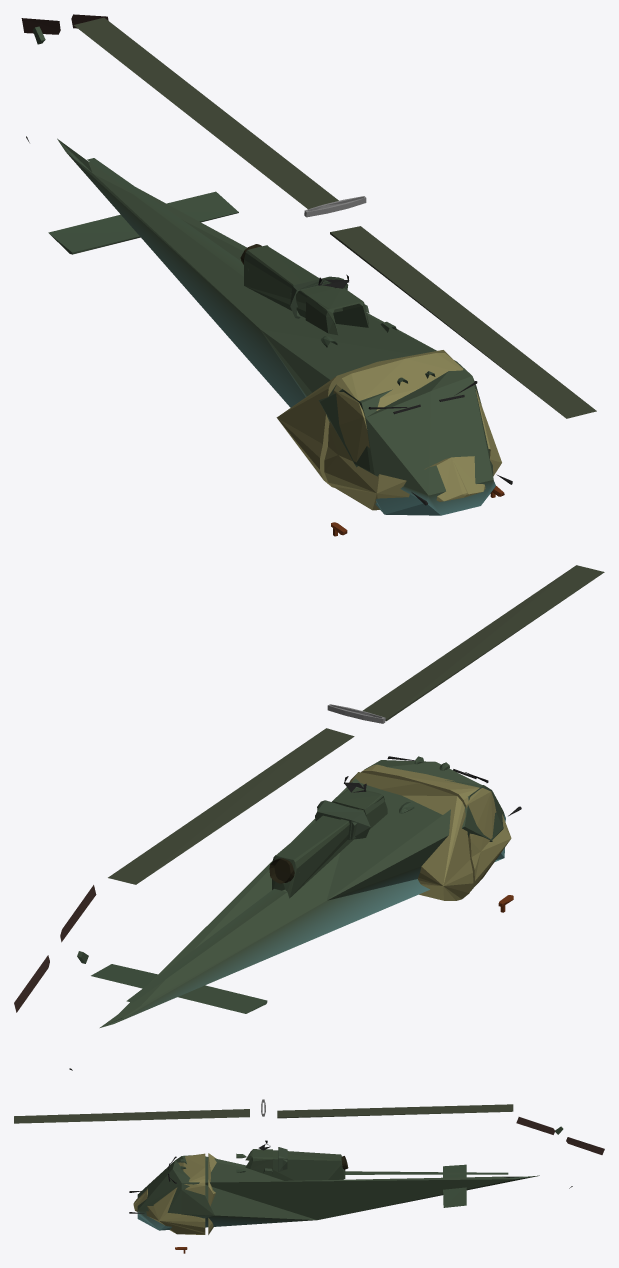
Rendered from uh1-medevac.lod1.glb.
The picture shows the model from 3 angles, top to bottom: view 1: azimuth 30°, elevation 25°; view 2: azimuth 150°, elevation 25°; view 3: azimuth 270°, elevation 25°; orthographic projection. The views are drawn at different scales.
Parts seen in each view (by area): view 1: Cylinder22-FACES; view 2: Cylinder22-FACES; view 3: Cylinder22-FACES.
Boxes of the visible parts, bbox=[...] form: Cylinder22-FACES: bbox=[21, 14, 596, 536]; Cylinder22-FACES: bbox=[14, 565, 604, 1070]; Cylinder22-FACES: bbox=[14, 1099, 604, 1253].
Size of the model in its own units: 2.54 by 3.68 by 15.5.
